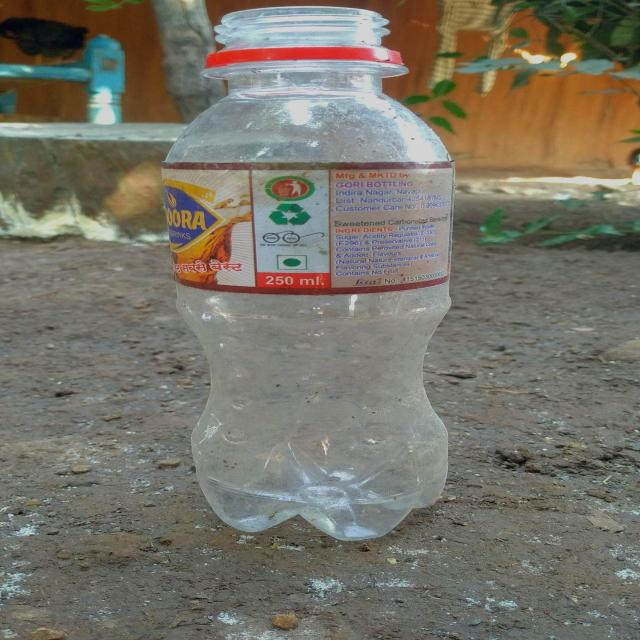bottle: (138, 0, 492, 549)
